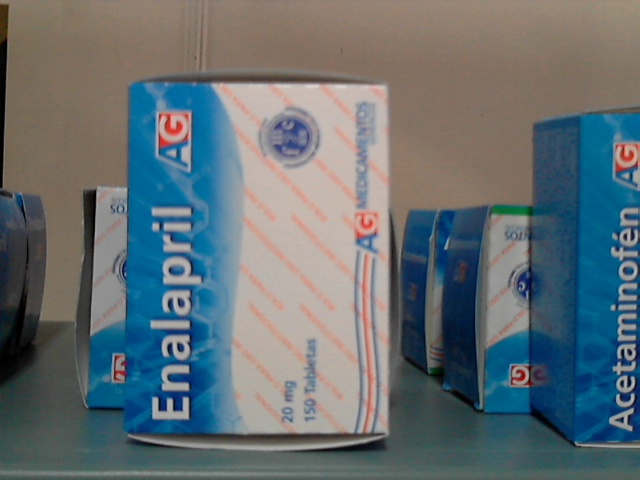AG: (129, 82, 387, 437)
